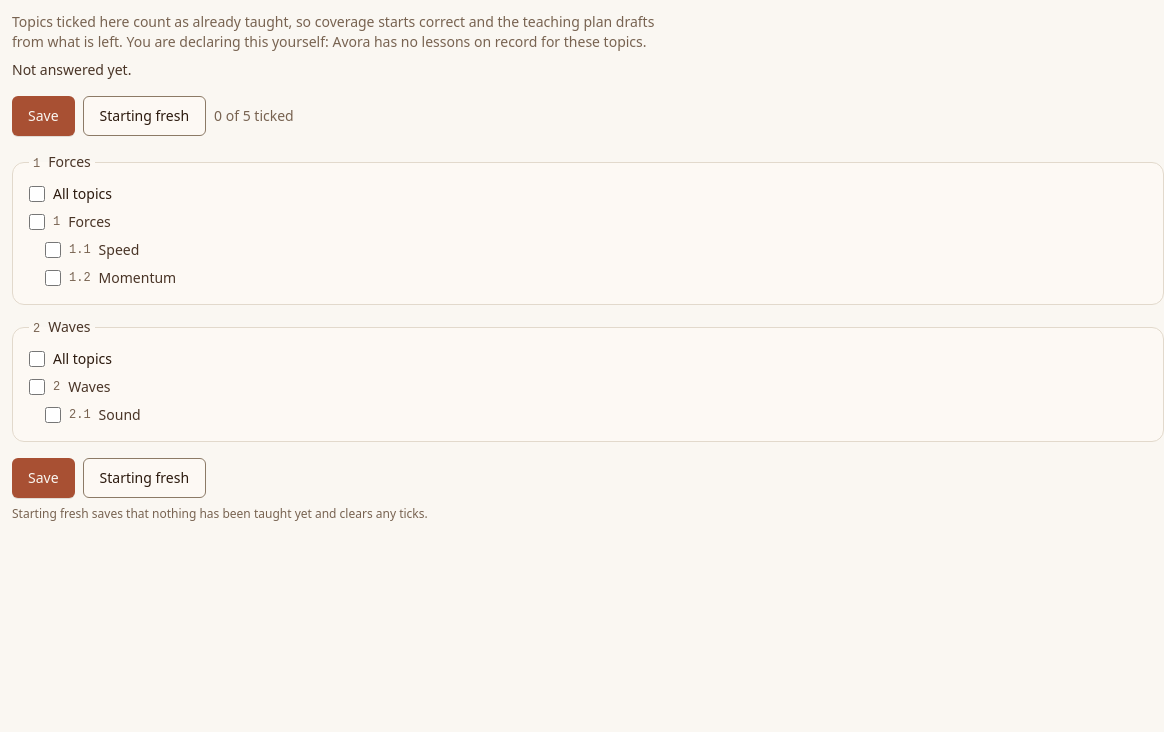
Test: Starting fresh saves an empty list
Expected: the text "Not answered yet." is shown, [12, 60, 131, 79]
Click the checkbox labelled "1.1 Speed": point(53, 250) [45, 242, 61, 258]
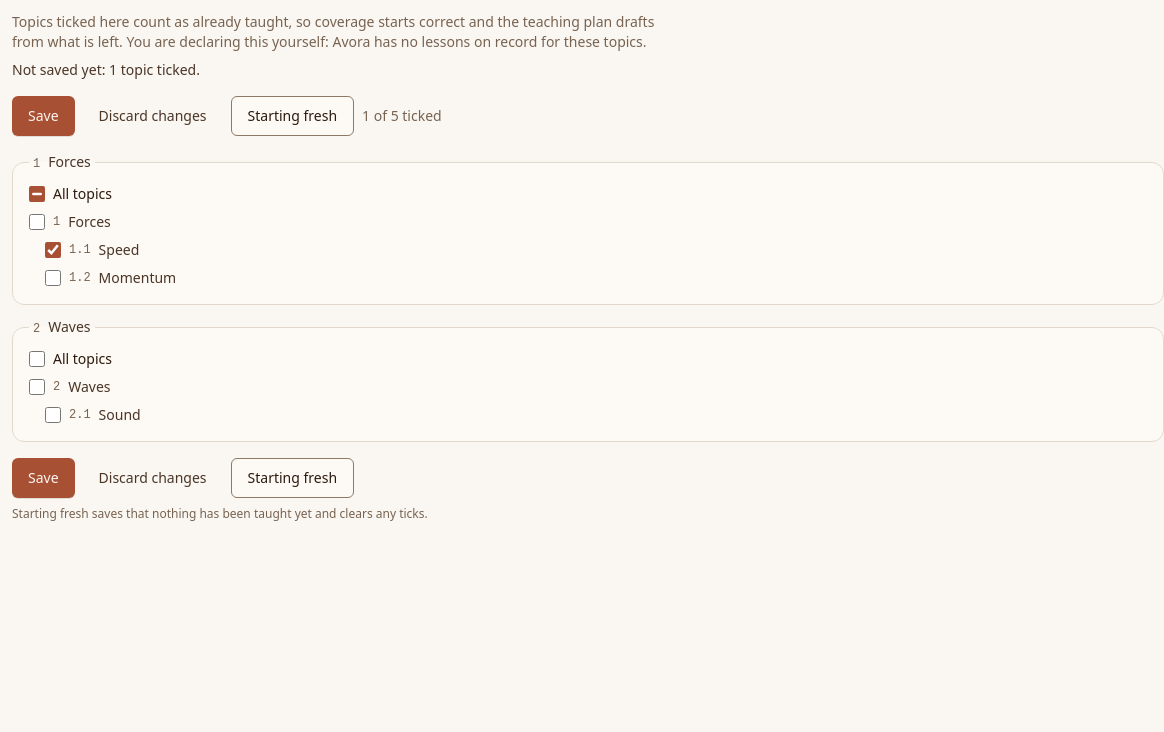
Click the 2nd button "Starting fresh": point(292, 478) [230, 458, 354, 498]
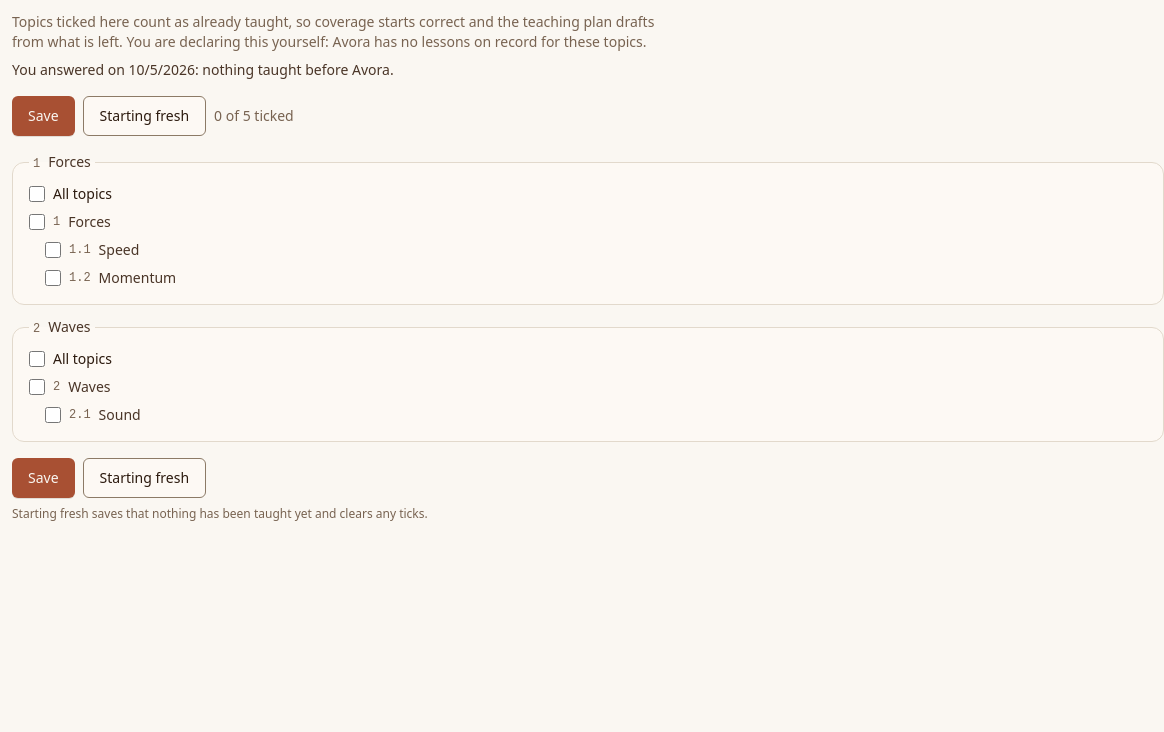
Now the checkbox labelled "1.1 Speed" is not checked, box [45, 242, 61, 258]
Now the text "You answered on 10/5/2026: nothing taught before Avora." is shown, box [12, 60, 394, 79]
